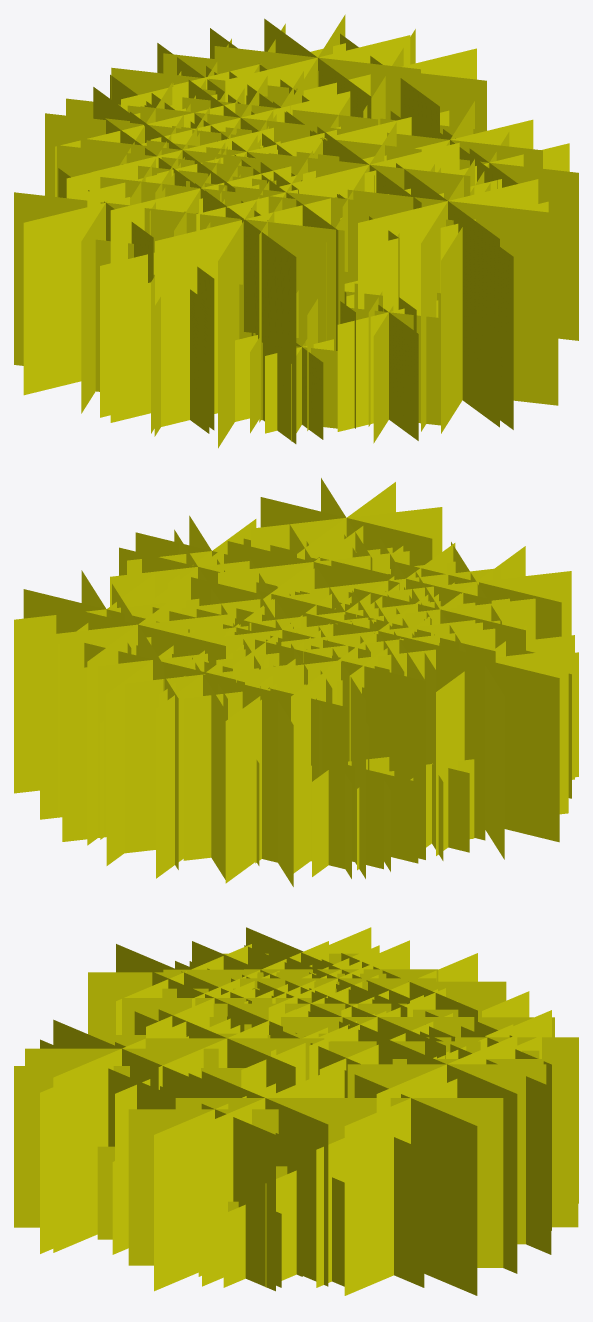
The model's file is grass_i.glb.
3 views of the same model, one above another, from view 1: azimuth 30°, elevation 25°; view 2: azimuth 150°, elevation 25°; view 3: azimuth 270°, elevation 25° (orthographic). The views are drawn at different scales.
Visible parts, largest first — view 1: SM_Grass_Shorts; view 2: SM_Grass_Shorts; view 3: SM_Grass_Shorts.
Part boxes in pixels (bbox=[...]): SM_Grass_Shorts: bbox=[14, 14, 578, 448]; SM_Grass_Shorts: bbox=[14, 478, 578, 886]; SM_Grass_Shorts: bbox=[14, 927, 578, 1295].
Size of the model in its own units: 1.3 by 0.4744 by 1.35.
